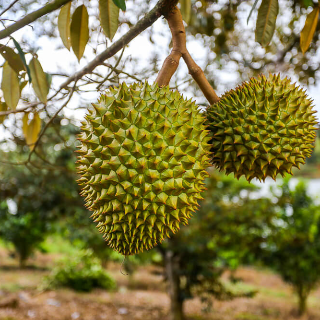sau_rieng: (74, 74, 211, 256), (208, 71, 319, 188)
